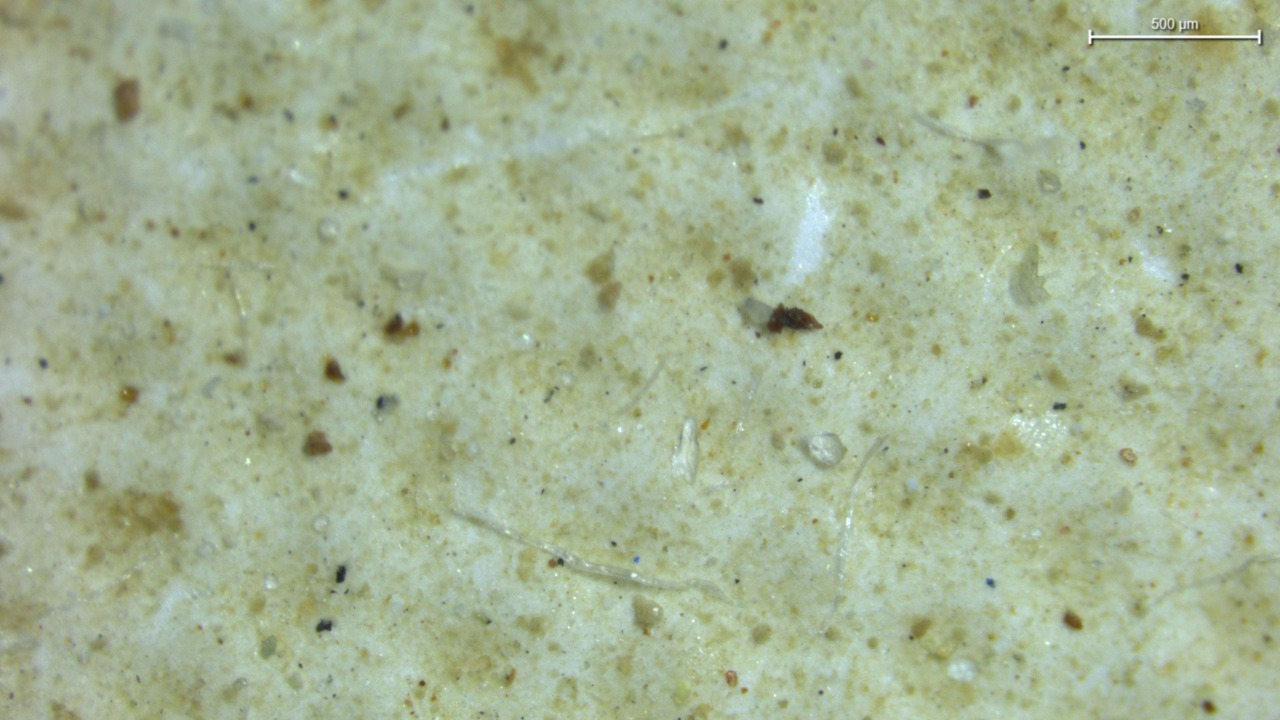microplastic_fragment: (1010, 244, 1049, 306), (807, 433, 846, 467)
